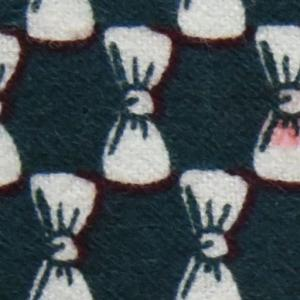Stain: (263, 113, 300, 154)
